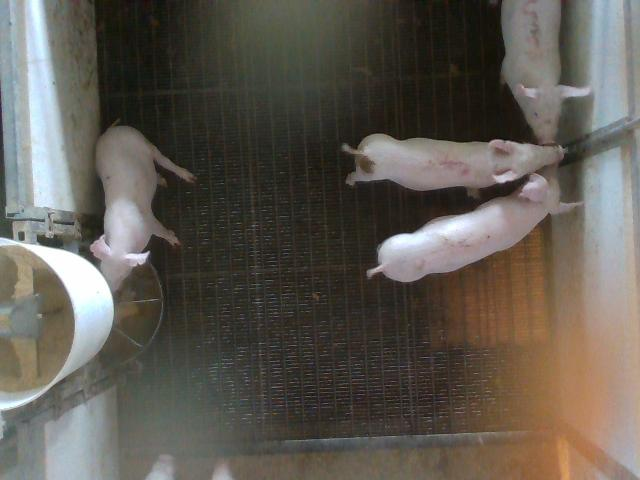pig-3: (501, 0, 591, 143)
pig-5: (341, 134, 564, 191)
